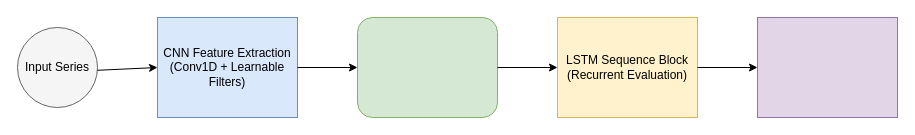
The diagram is 915 pixels wide and 135 high, and some of its shapes have lost their labels. The box of each missing label's shape, as (x1, y1, x2, y2) in pixels:
Fully Connected Output Classifier: (756, 16, 898, 118)
Max Pooling (Dimensionality Reduction): (356, 16, 498, 118)
